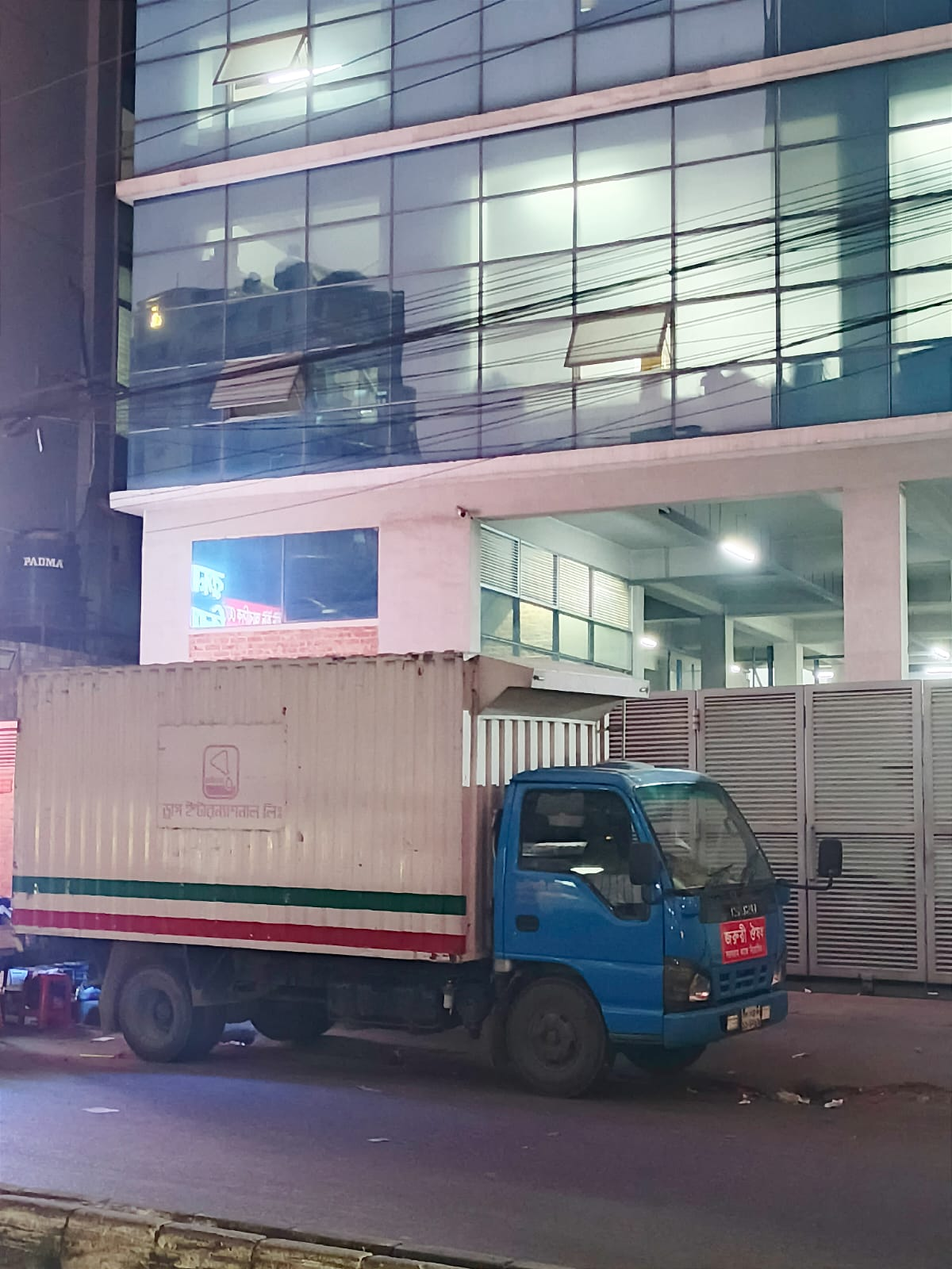Truck: (0, 598, 865, 1103)
